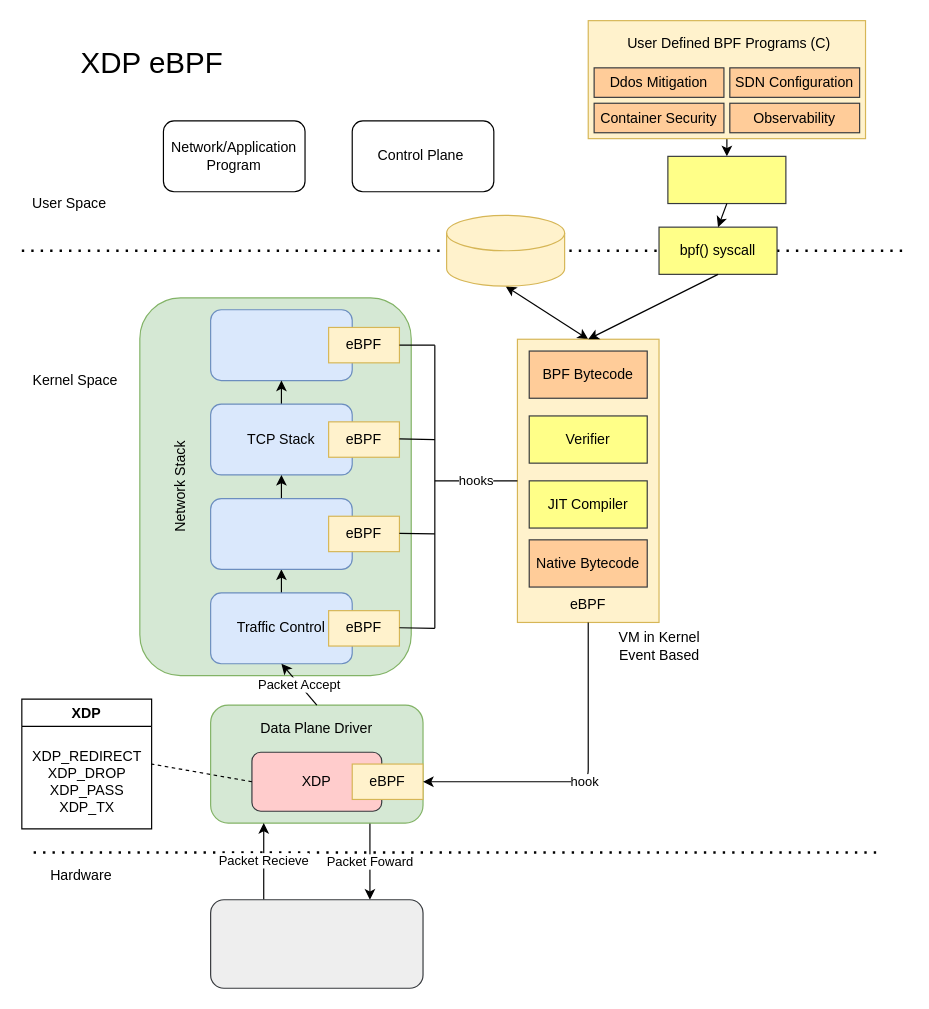
Image size: 929x1009. Some labels were removed from this diagram. The centre of each missing label's shape, as x and y in pixels:
"eBPF Maps" belongs at (505,250).
"LLVM/Clang" belongs at (726,179).
"Netfilter" belongs at (280,533).
"NIC设备" belongs at (316,943).
"Socket" belongs at (280,345).
